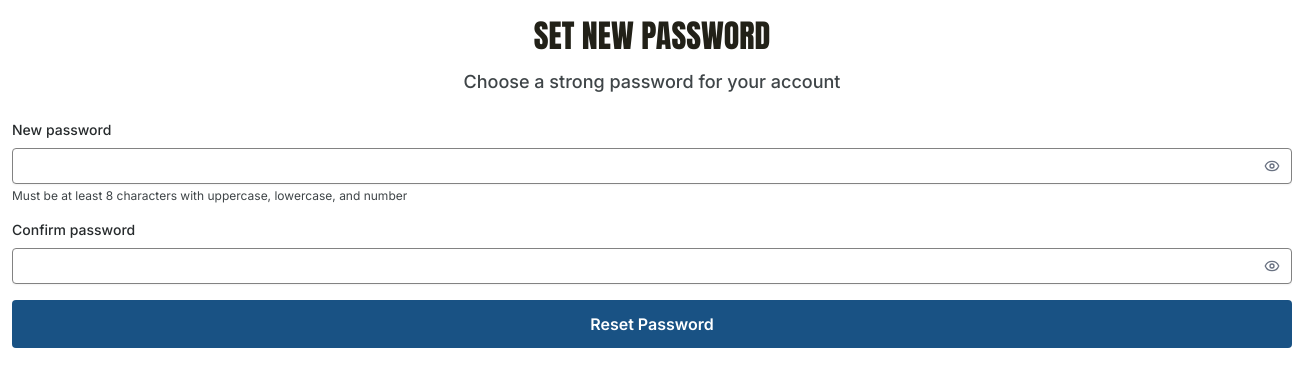
Test: SetNewPasswordState › shows loading state while submitting
Type "ValidPass123" into the password field labelled "New password".
click(652, 166); type("ValidPass123")  # box 12,148 -> 1292,184
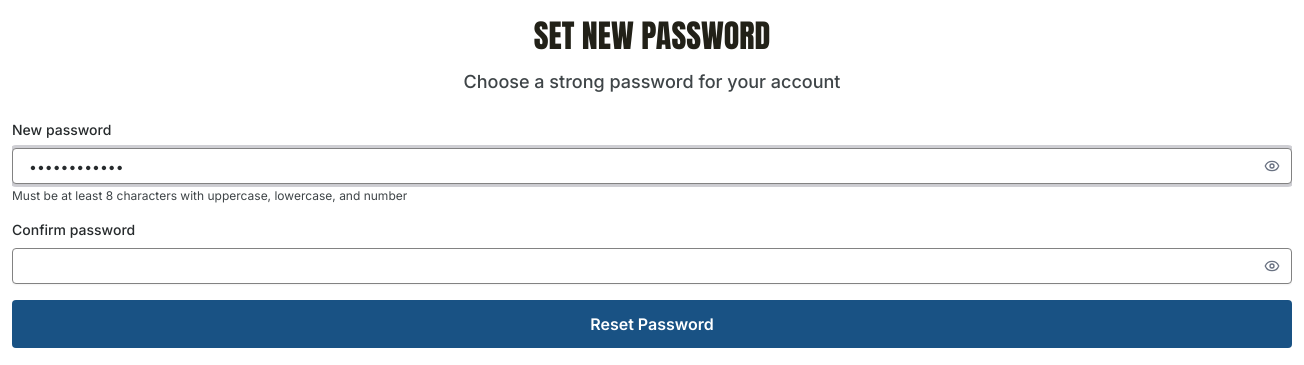
Type "ValidPass123" into the password field labelled "Confirm password".
click(652, 266); type("ValidPass123")  # box 12,248 -> 1292,284
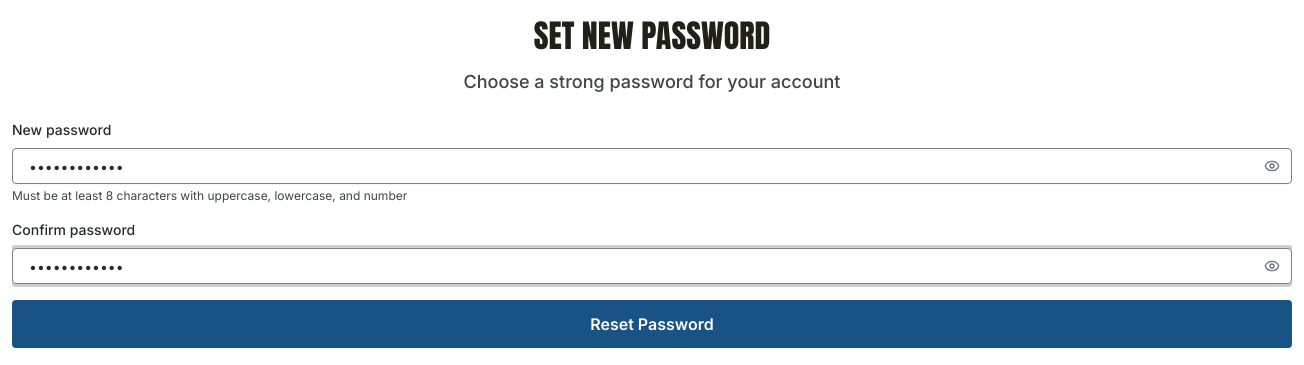
Click the button "Reset Password".
click(652, 324)  # box 12,300 -> 1292,348
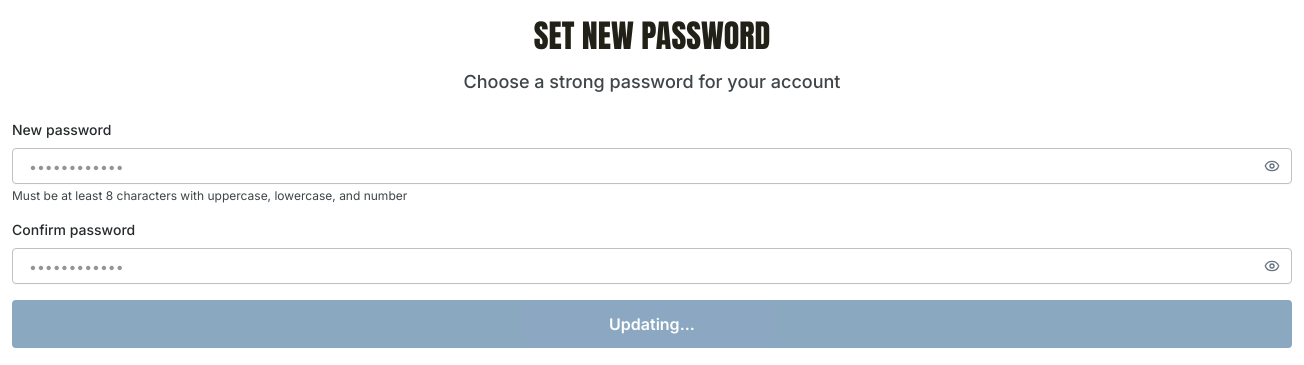
Expected: the button "Updating..." is disabled, 12,300 -> 1292,348
